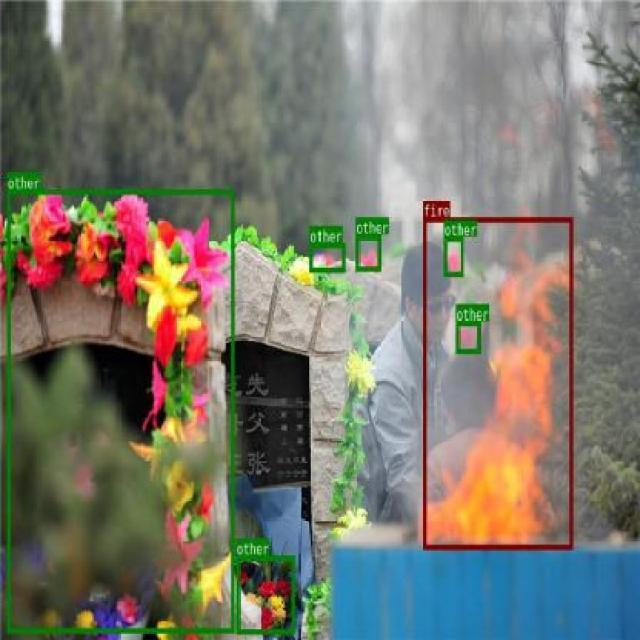Fire: (423, 217, 572, 548)
